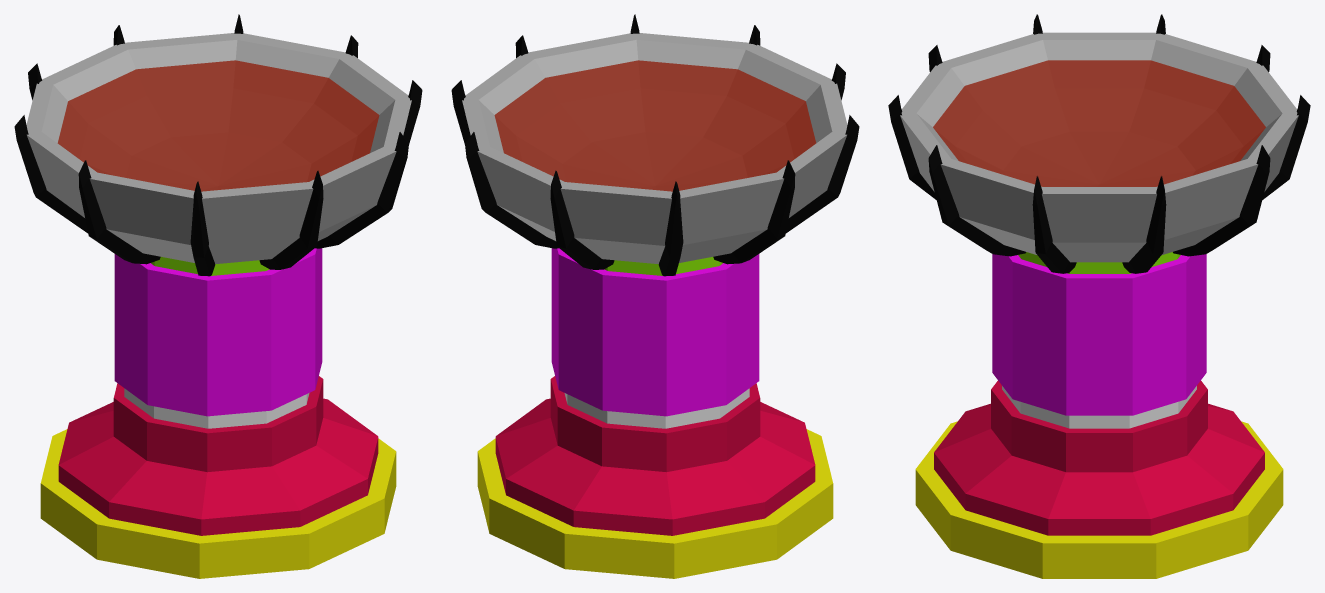
The model's file is altar.fbx.
3 views of the same model, side by side, from view 1: azimuth 30°, elevation 25°; view 2: azimuth 150°, elevation 25°; view 3: azimuth 270°, elevation 25° (orthographic).
Parts seen in each view (by area): view 1: zAltar_polySurface1; view 2: zAltar_polySurface1; view 3: zAltar_polySurface1.
Part boxes in pixels (box(x1,y1,x2,y2)): zAltar_polySurface1: box(14, 14, 422, 578); zAltar_polySurface1: box(451, 14, 859, 578); zAltar_polySurface1: box(888, 14, 1310, 578).
Bounding box in the file's own units: 218 × 246 × 229.
